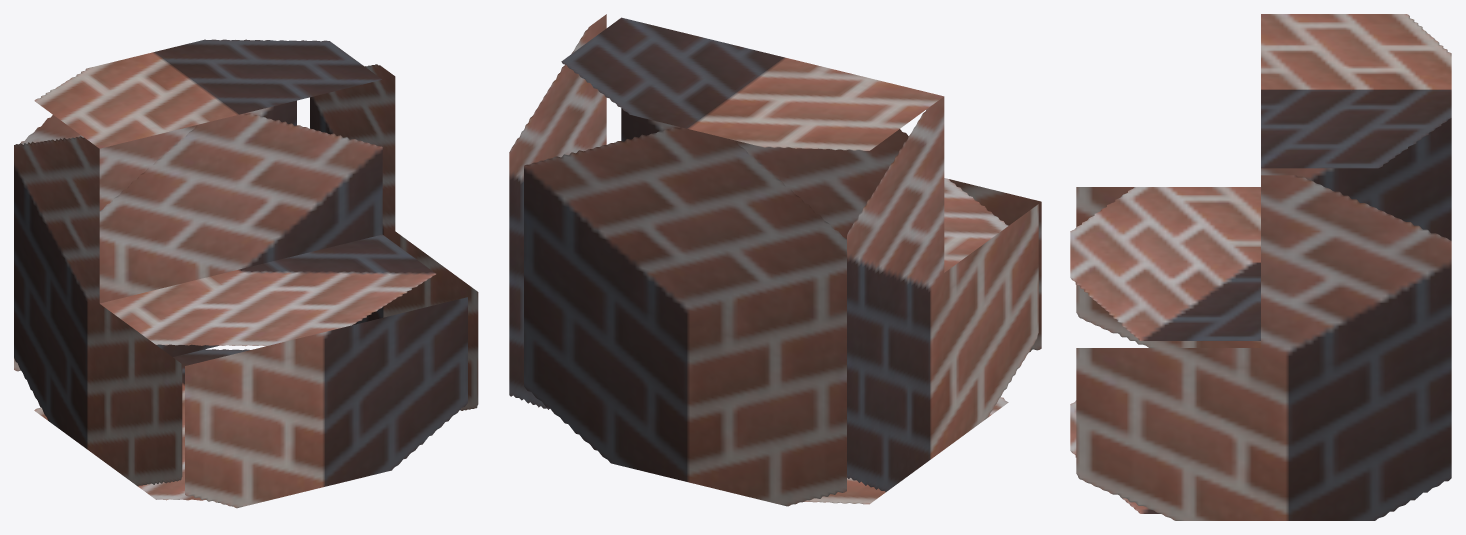
Rendered from Stair.fbx.
3 views of the same model, side by side, from view 1: azimuth 30°, elevation 25°; view 2: azimuth 150°, elevation 25°; view 3: azimuth 270°, elevation 25° (orthographic). The views are drawn at different scales.
Parts seen in each view (by area): view 1: Stair; view 2: Stair; view 3: Stair.
Boxes of the visible parts, left/top/right/bottom form: Stair: left=14, top=39, right=478, bottom=508; Stair: left=509, top=14, right=1041, bottom=506; Stair: left=1070, top=14, right=1451, bottom=520.
Size of the model in its own units: 100 by 100 by 100.
